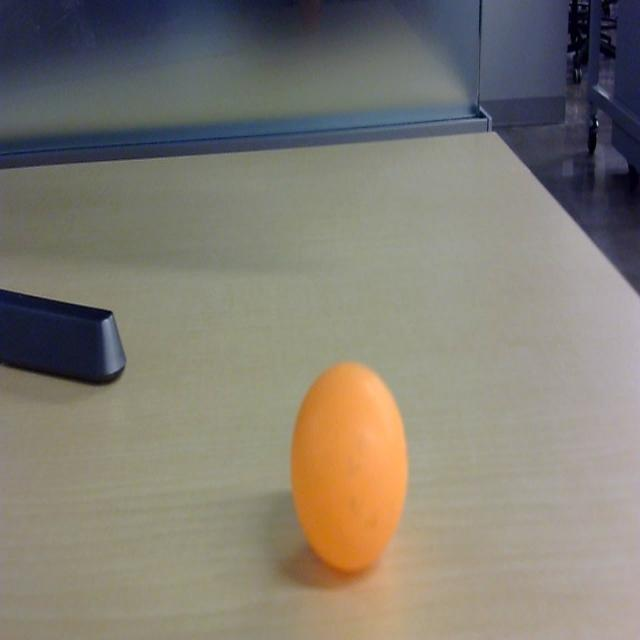ball: (288, 359, 409, 574)
